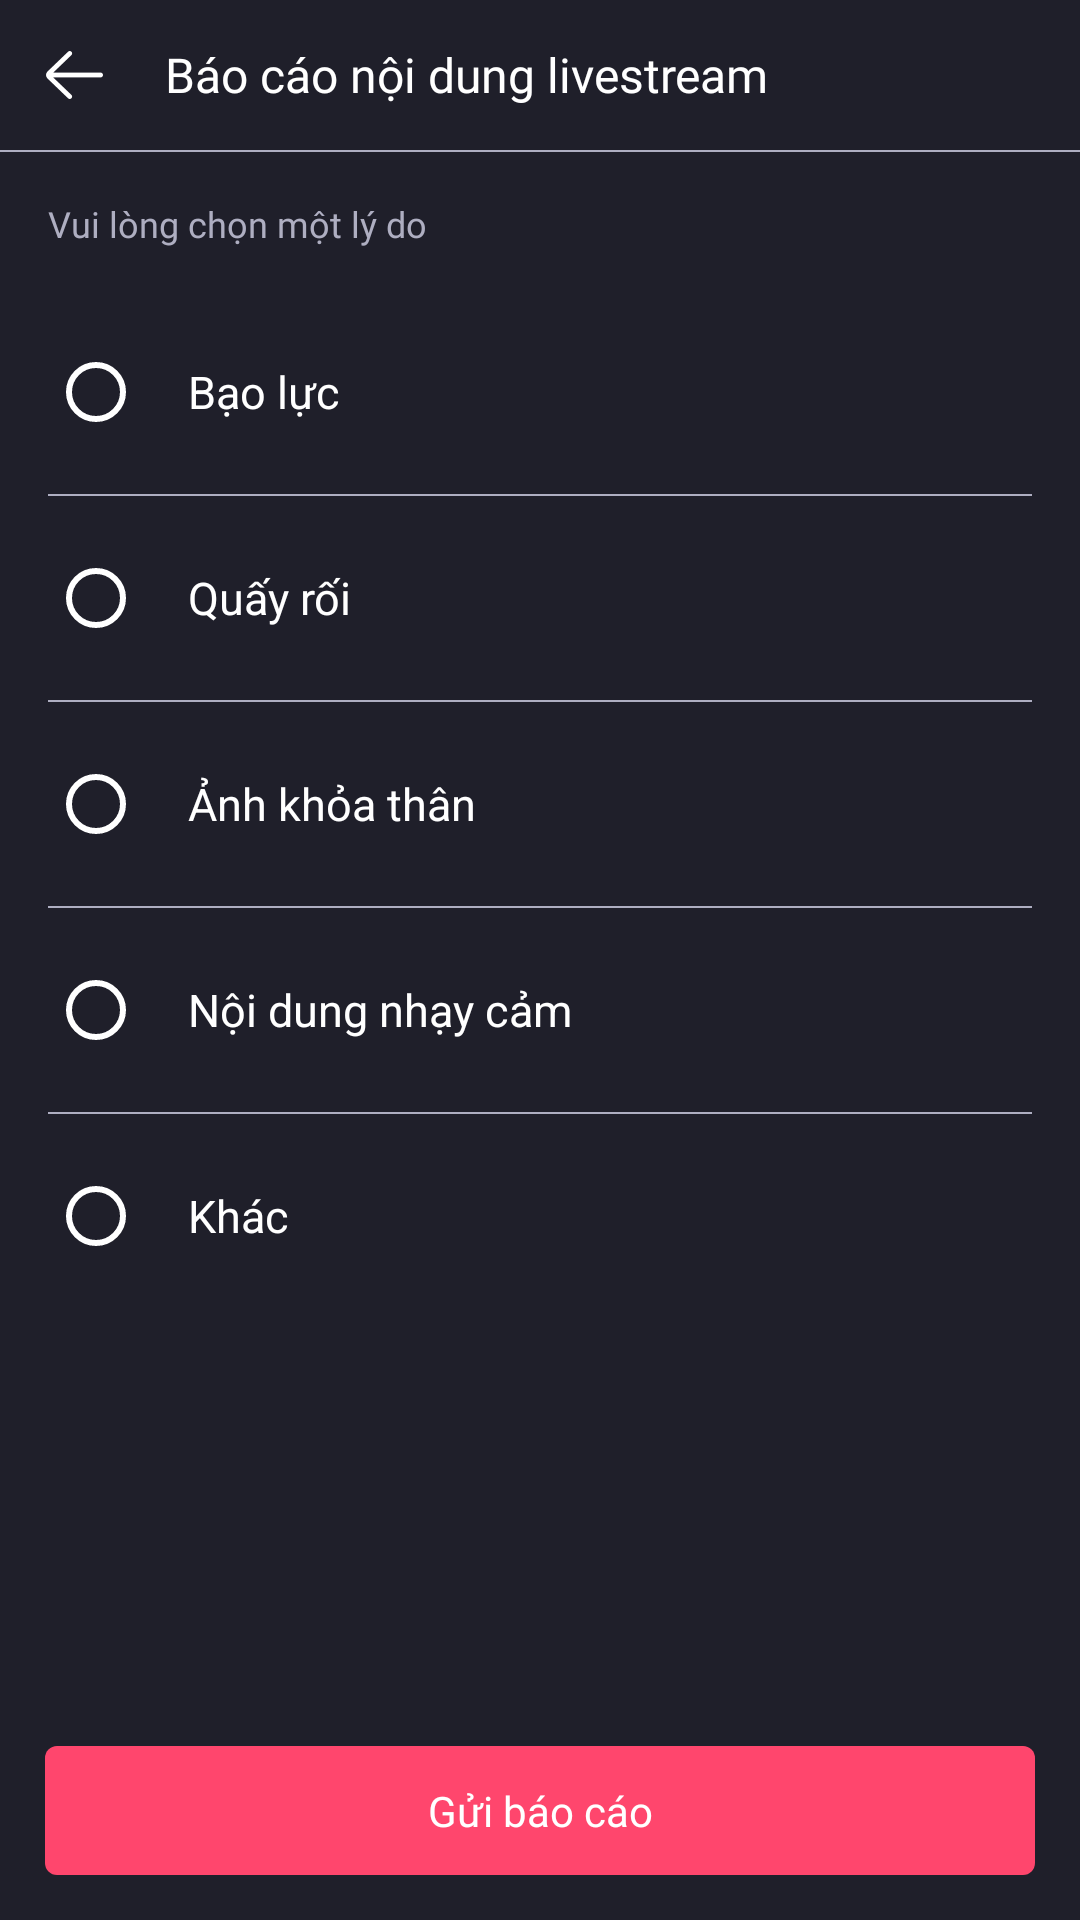

Locate icon controls on the screen. Image size 1080px×1920px, boxes as (x1, y1, x2, y2).
back arrow: (46, 51, 103, 99)
